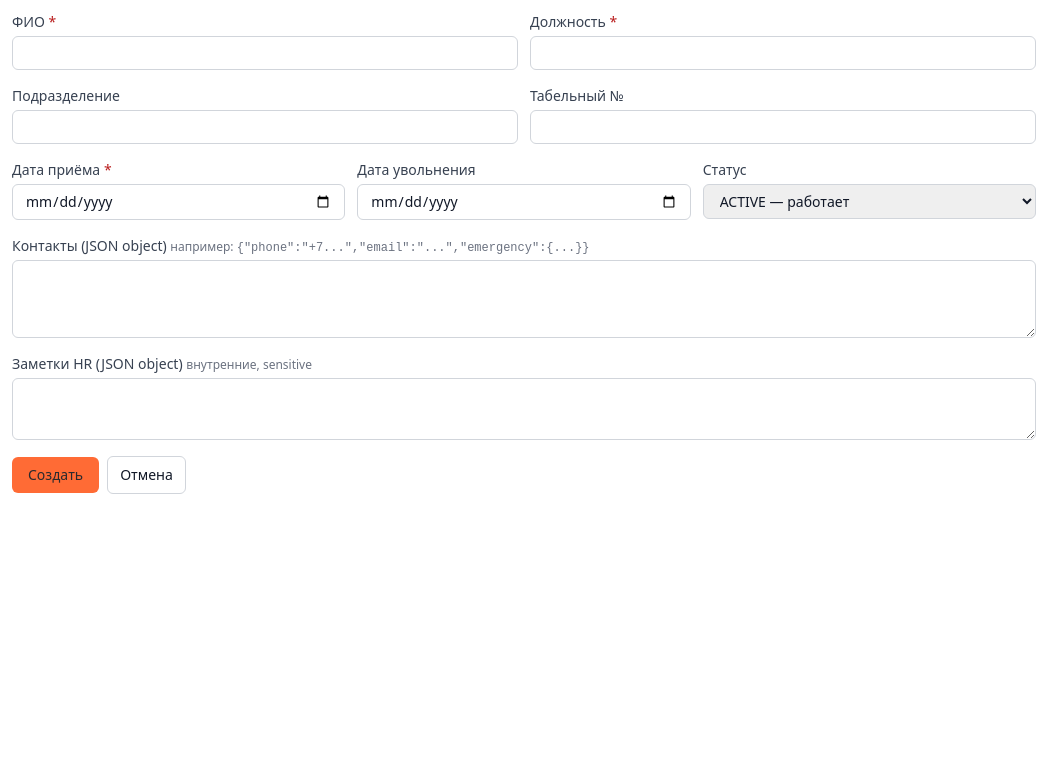
Test case: EmployeeForm (create) › TERMINATED без termination_date → local error
Step 1. Type "Иванов И.И." into the field labelled "ФИО *" → point(265, 53), box [12,36,518,70]
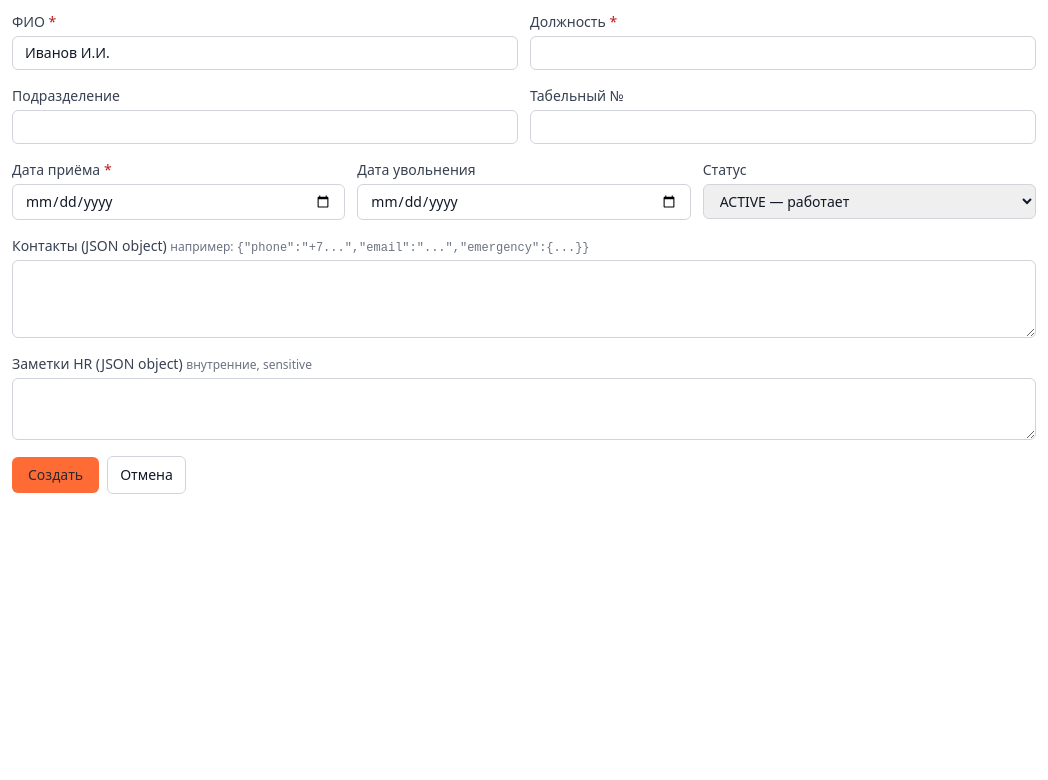
Step 2. Type "Менеджер" into the field labelled "Должность *" → point(783, 53), box [530,36,1036,70]
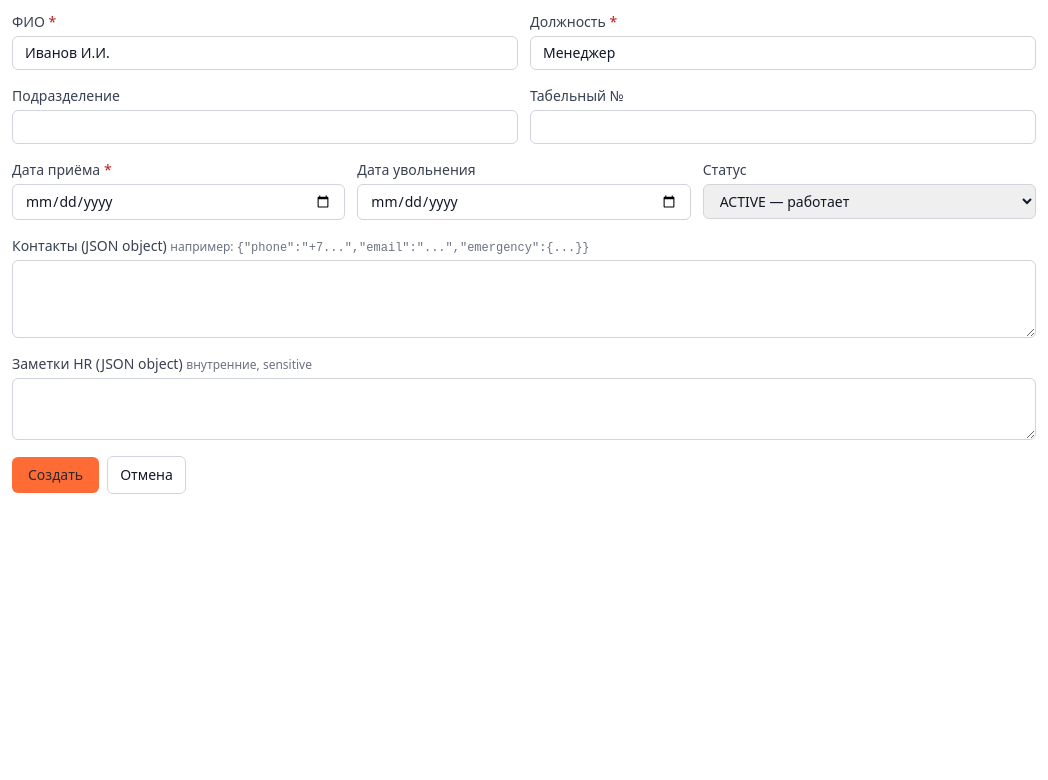
Step 3. Type "2026-01-15" into the date field labelled "Дата приёма *" → point(179, 202), box [12,184,345,220]
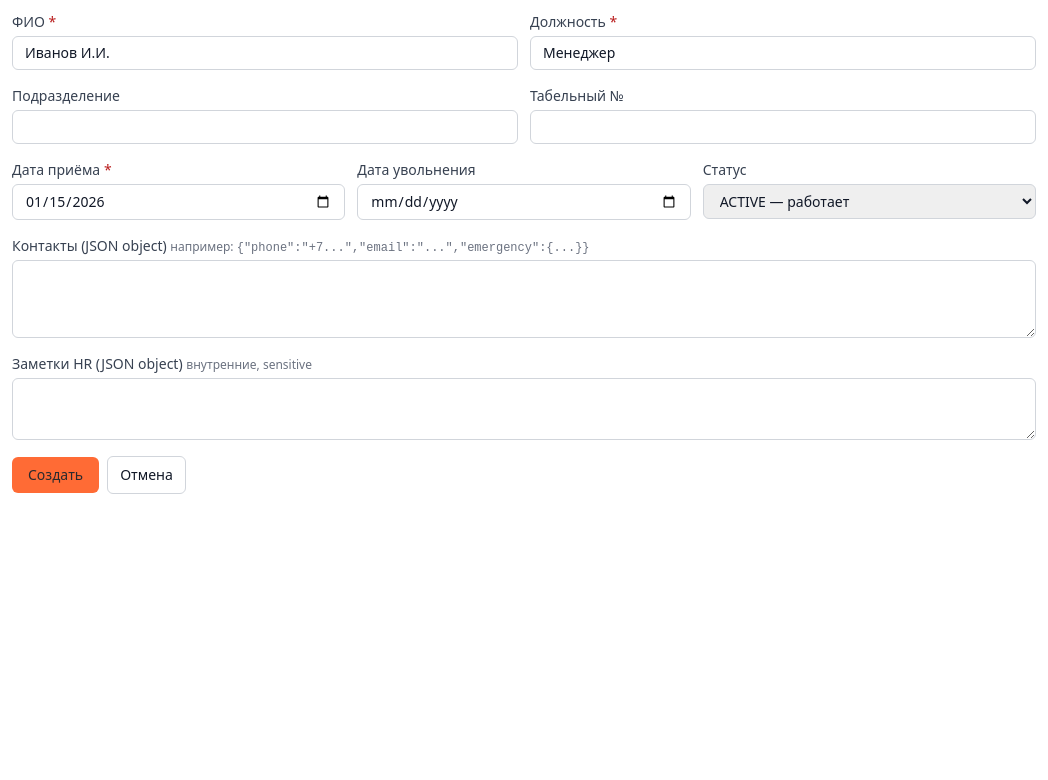
Step 4. Select "TERMINATED — уволен" in the dropdown labelled "Статус" → point(869, 202), box [703,184,1036,219]
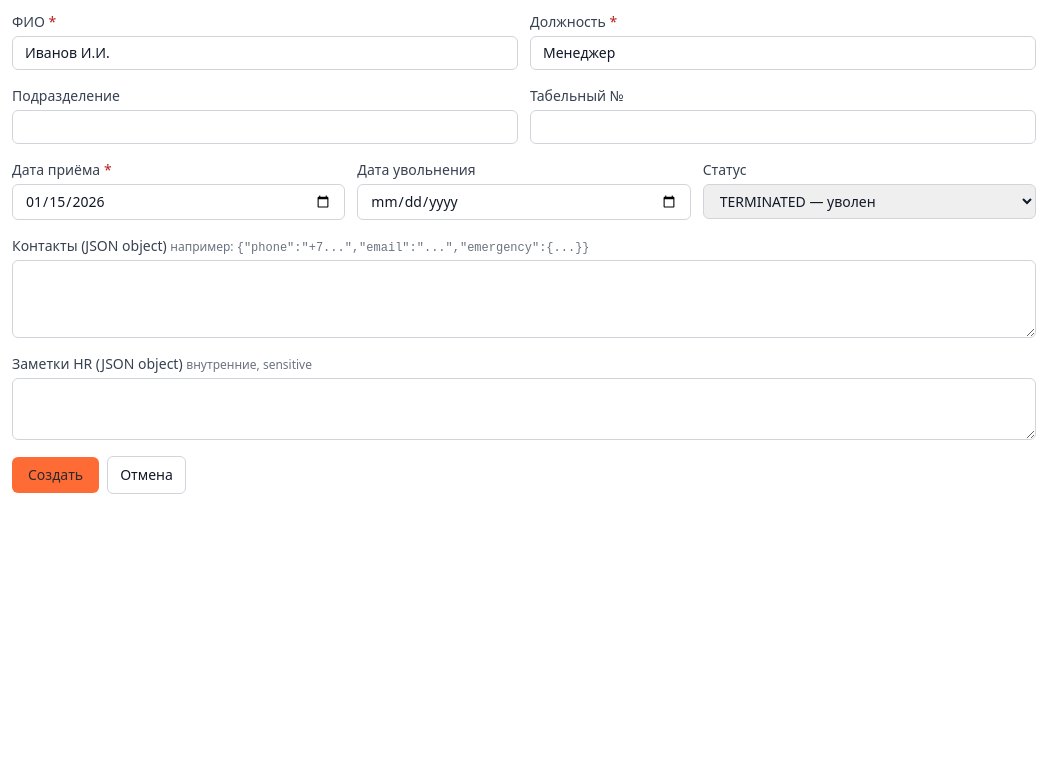
Step 5. Click the button "Создать" → point(56, 475), box [12,457,99,493]
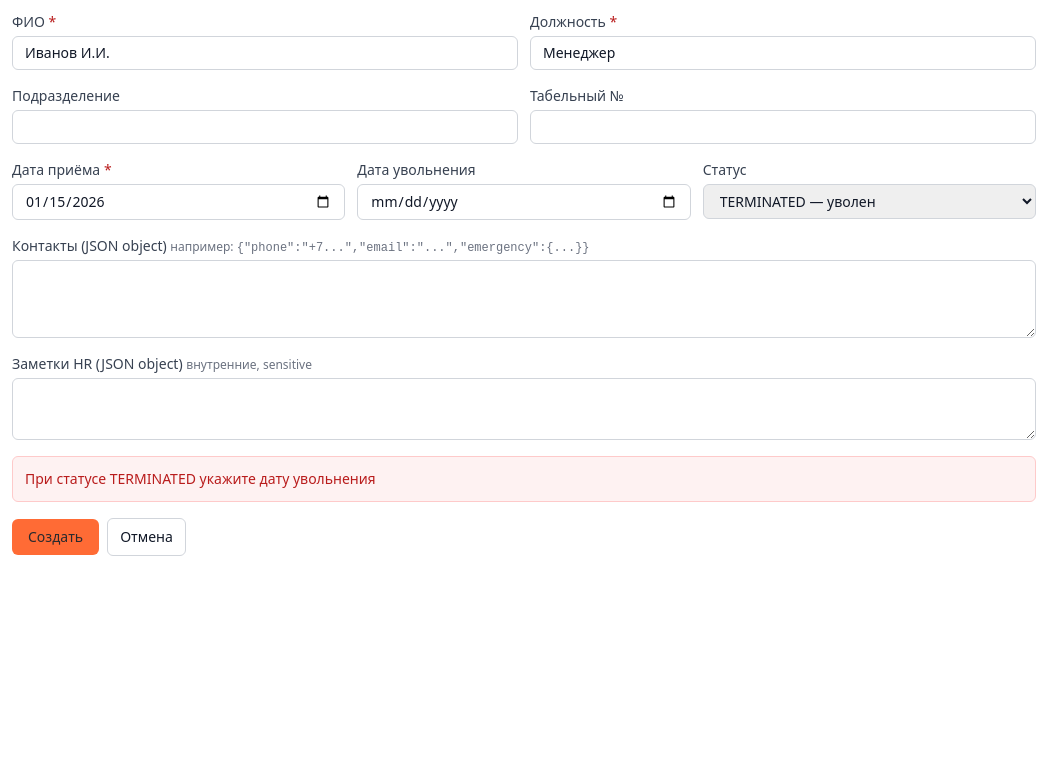
Result: the message shows "дату увольнения" at [25,469,376,488]
